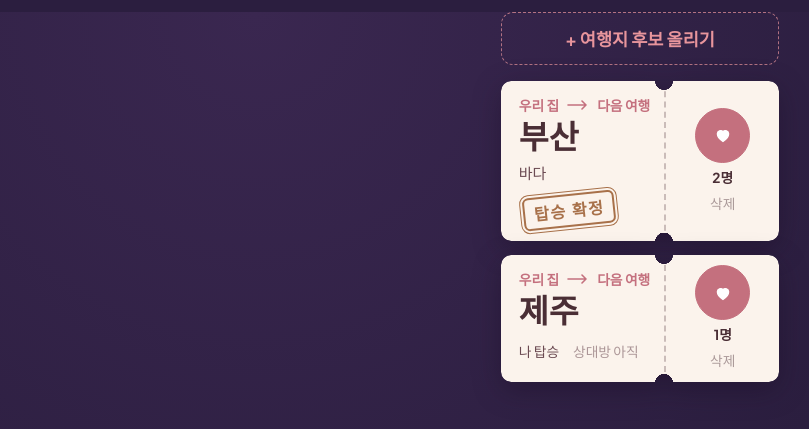
Test: TravelVote › shows an error message when toggling a like fails
This screenshot has width=809, height=429.
Click the button named "좋아요" in the row of "부산" at (723, 135), box [695, 108, 750, 163]
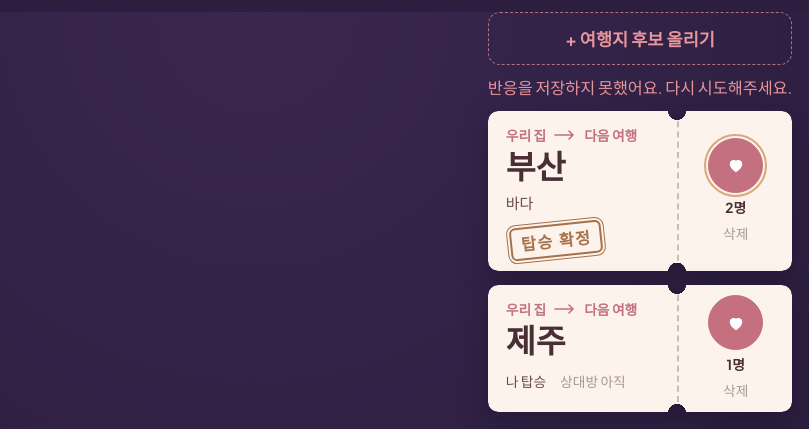
Expected: the text "반응을 저장하지 못했어요. 다시 시도해주세요." is shown, [488, 75, 792, 99]
